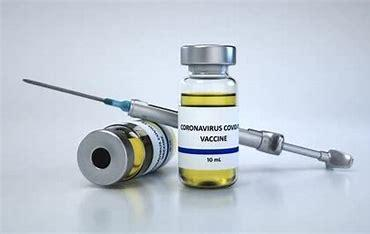Syringe: (172, 38, 244, 193), (74, 116, 177, 190)
